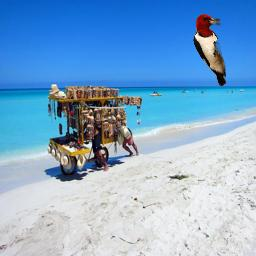Woodpecker: (193, 14, 226, 86)
